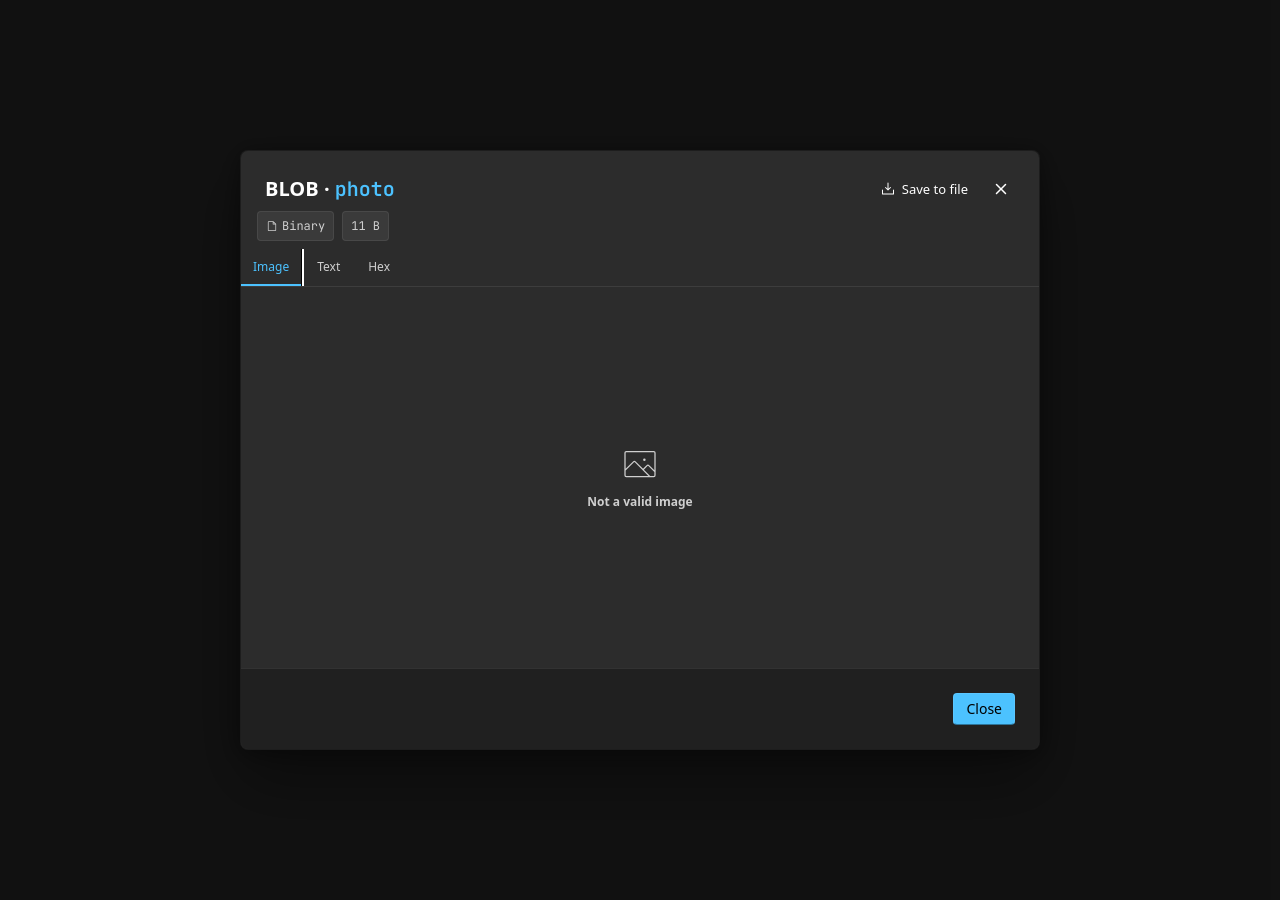
Scenario: BlobViewerDialog › switches between Image, Text, and Hex tabs
Expected: the element with test id "blob-not-image" is shown, x1=587 y1=444 x2=693 y2=510
What coordinates should you click on to do the following:
click the tab with test id "blob-tab-text"
I would click on:
 (329, 268)
Its box is x1=305 y1=249 x2=352 y2=286.
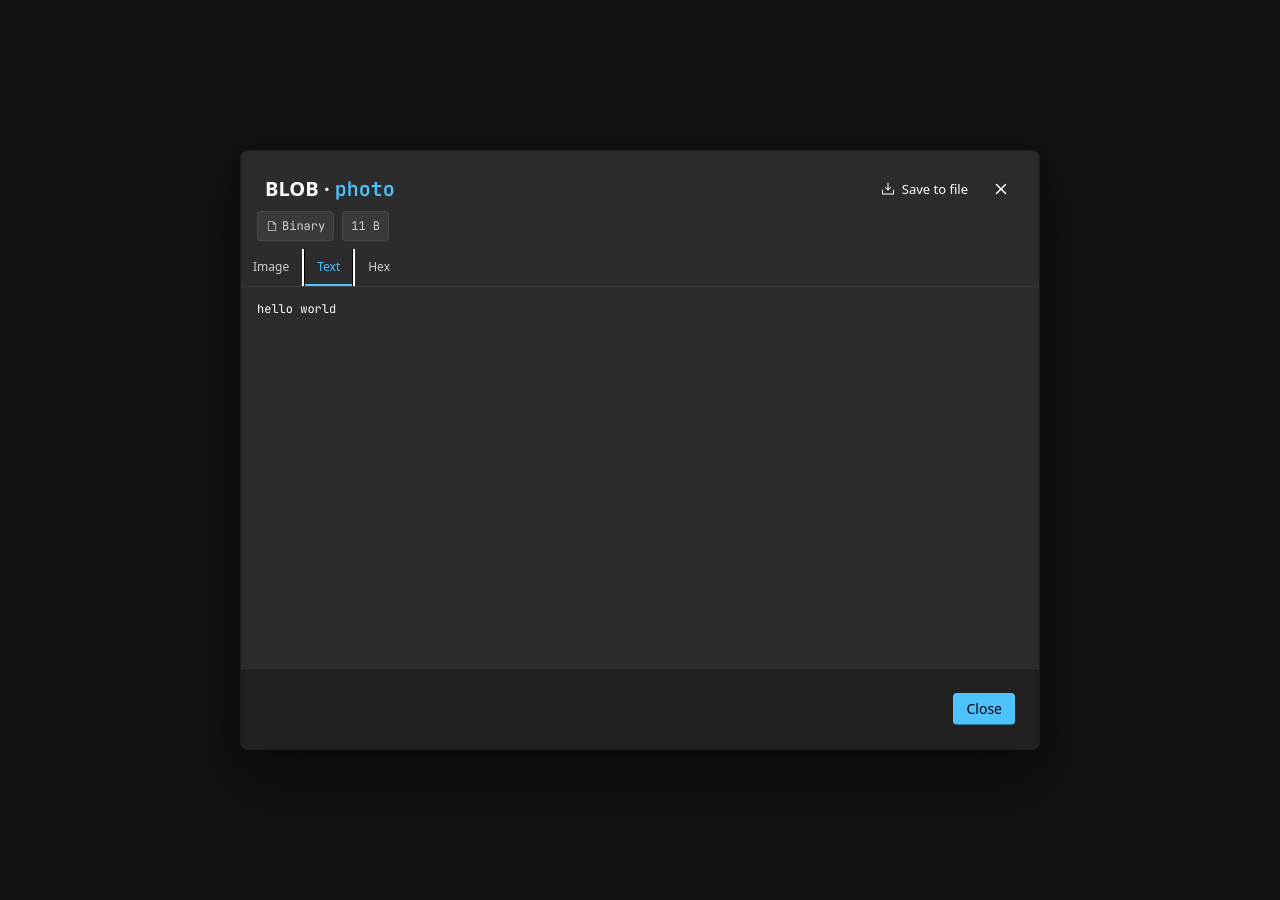
Now the text with test id "blob-text" reads "hello world", box x1=257 y1=301 x2=336 y2=317
What coordinates should you click on to do the following:
click the tab with test id "blob-tab-hex"
I would click on:
 (379, 268)
Its box is x1=356 y1=249 x2=402 y2=286.
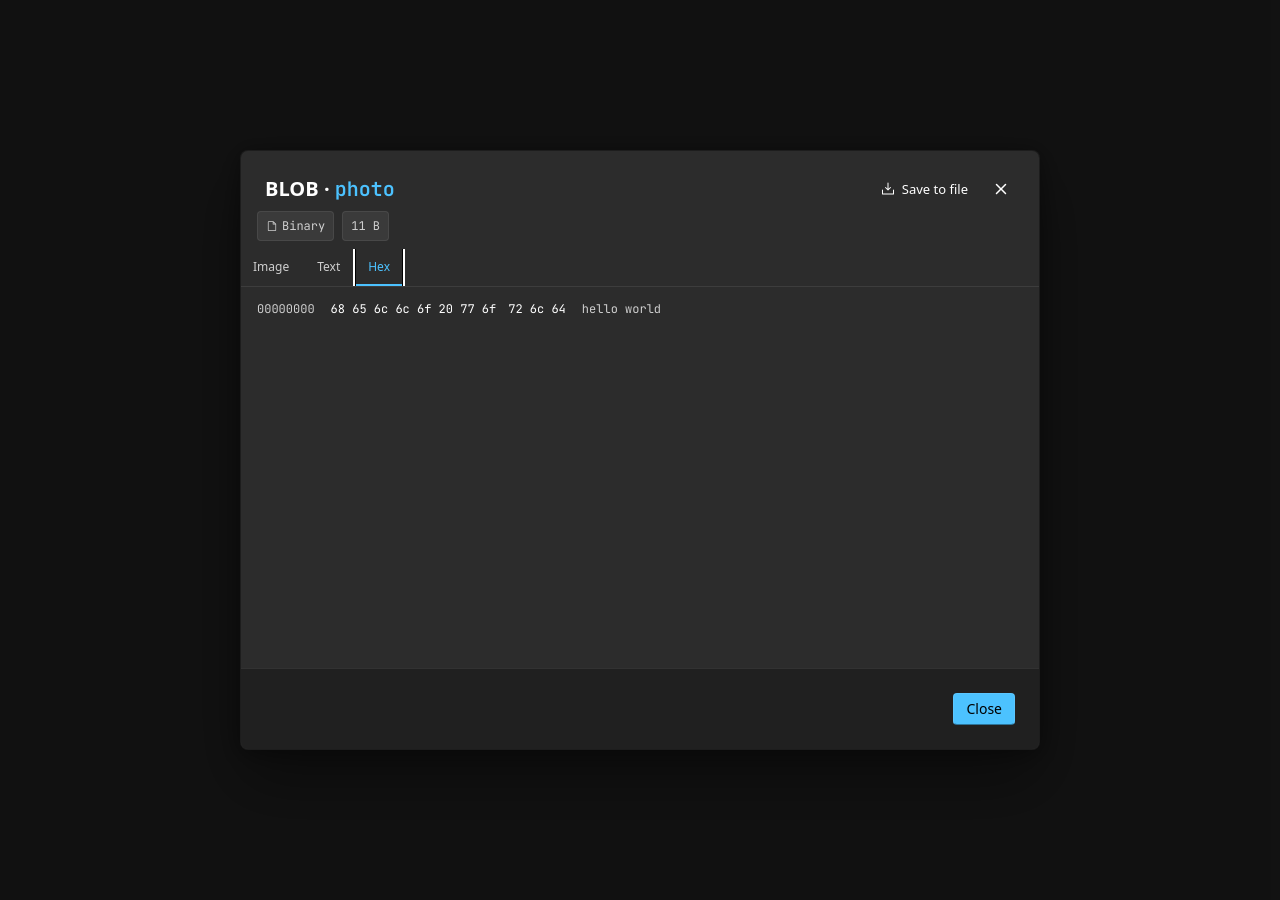
Now the element with test id "blob-hex" shows "68 65 6c 6c 6f", box x1=331 y1=301 x2=496 y2=317
